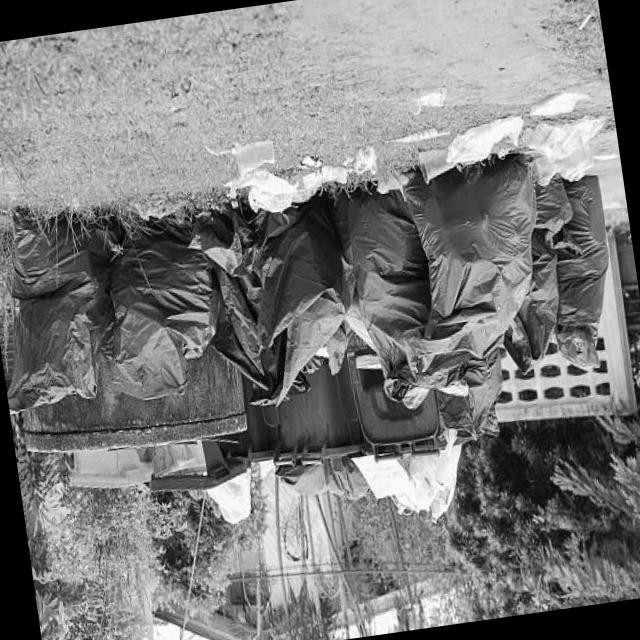high trash: (7, 155, 608, 432)
